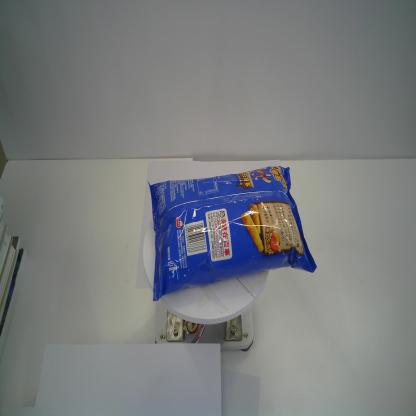Puffed Food: (147, 164, 319, 302)
